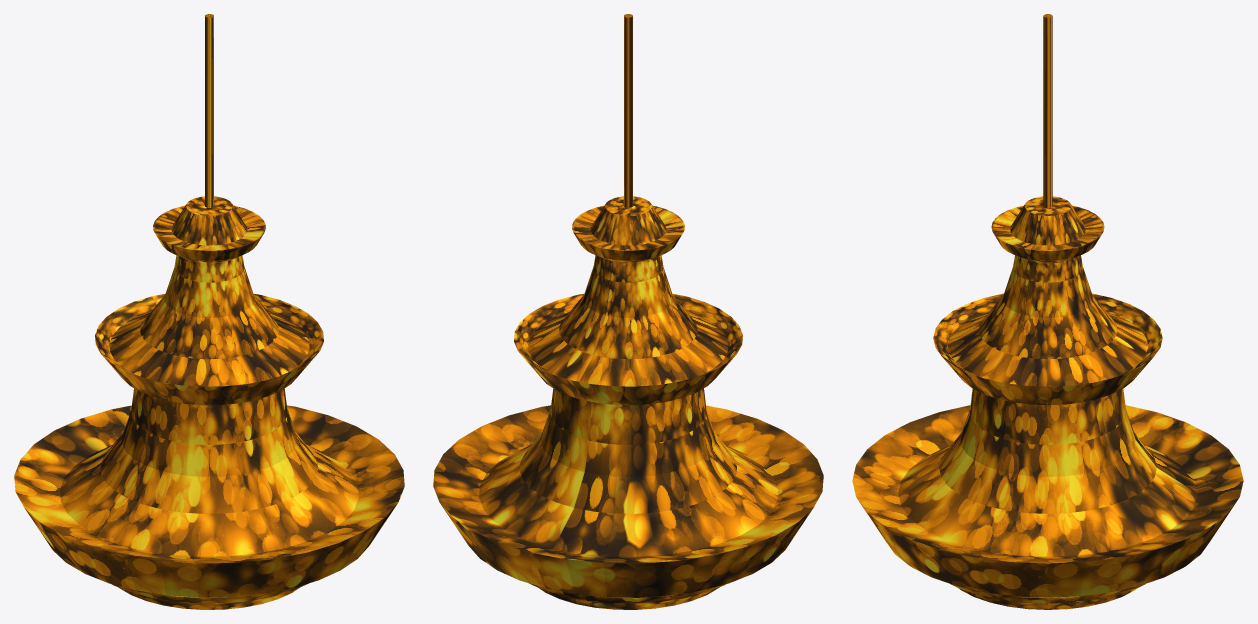
File: Chandelier.fbx
The picture shows the model from 3 angles, left to right: view 1: azimuth 30°, elevation 25°; view 2: azimuth 150°, elevation 25°; view 3: azimuth 270°, elevation 25°; orthographic projection.
Parts seen in each view (by area): view 1: Cylinder.006; view 2: Cylinder.006; view 3: Cylinder.006.
Boxes of the visible parts, x1,y1,x2,y2 form: Cylinder.006: (14, 14, 404, 609); Cylinder.006: (433, 14, 823, 609); Cylinder.006: (852, 14, 1243, 609).
Bounding box in the file's own units: 73.06 × 116 × 73.06.
